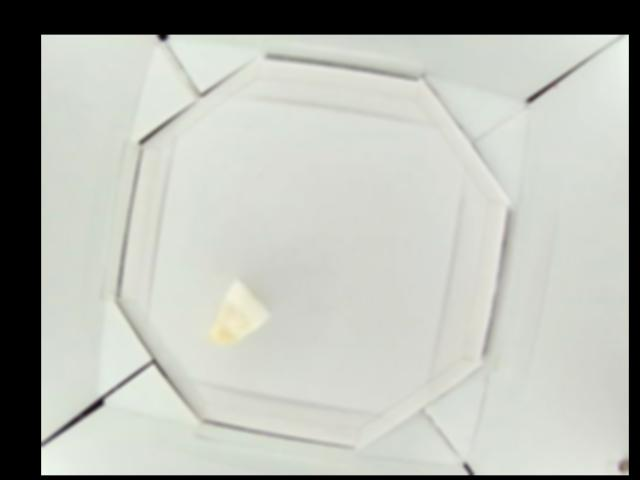Mooli: (210, 281, 269, 345)
